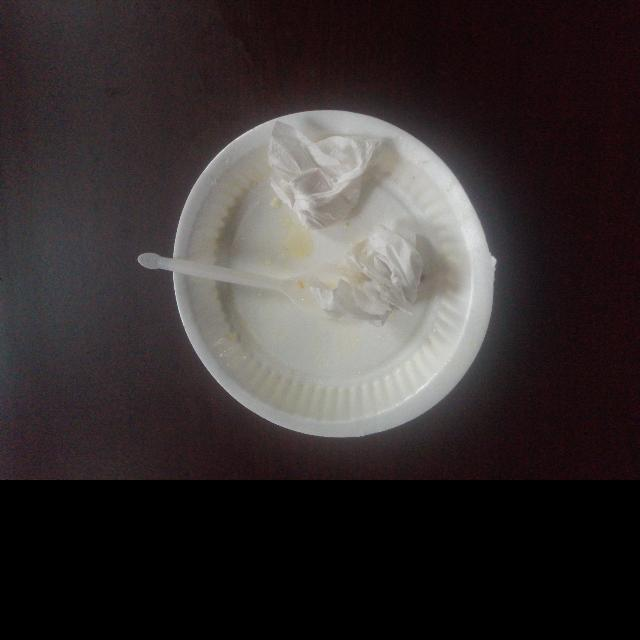kitchen paper: (259, 118, 390, 226), (323, 222, 435, 322)
